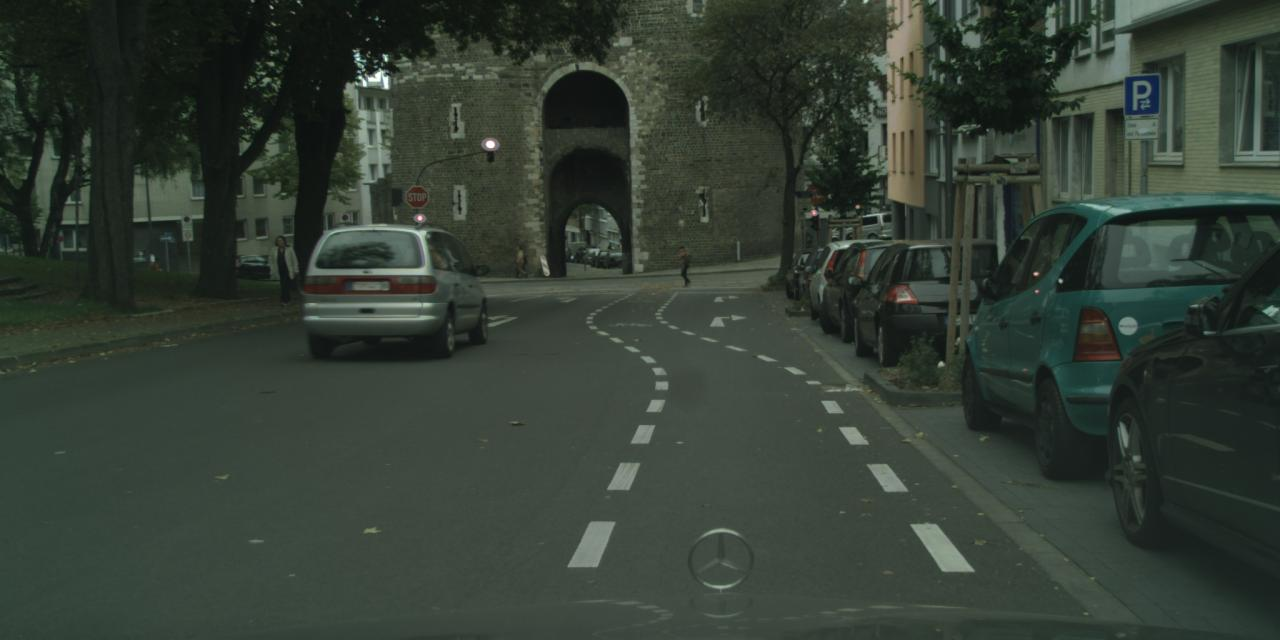ped: (270, 235, 298, 304), (675, 245, 693, 287), (514, 245, 526, 276), (514, 249, 525, 277), (151, 258, 160, 282)
